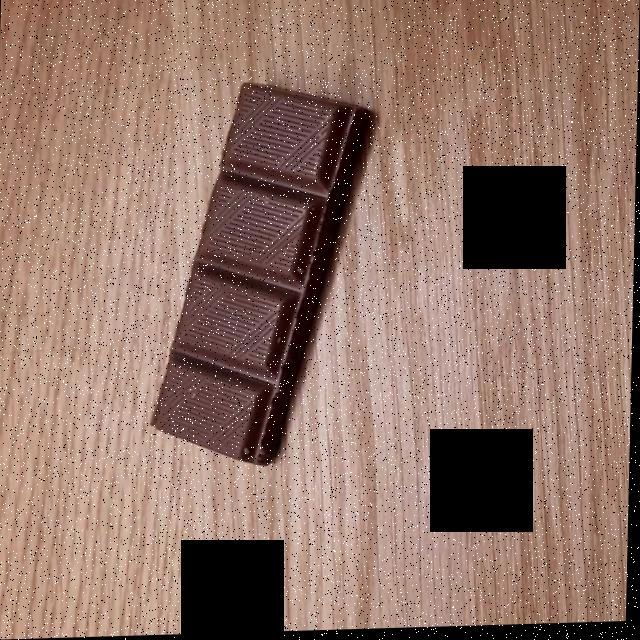chocolate: (160, 96, 364, 463)
